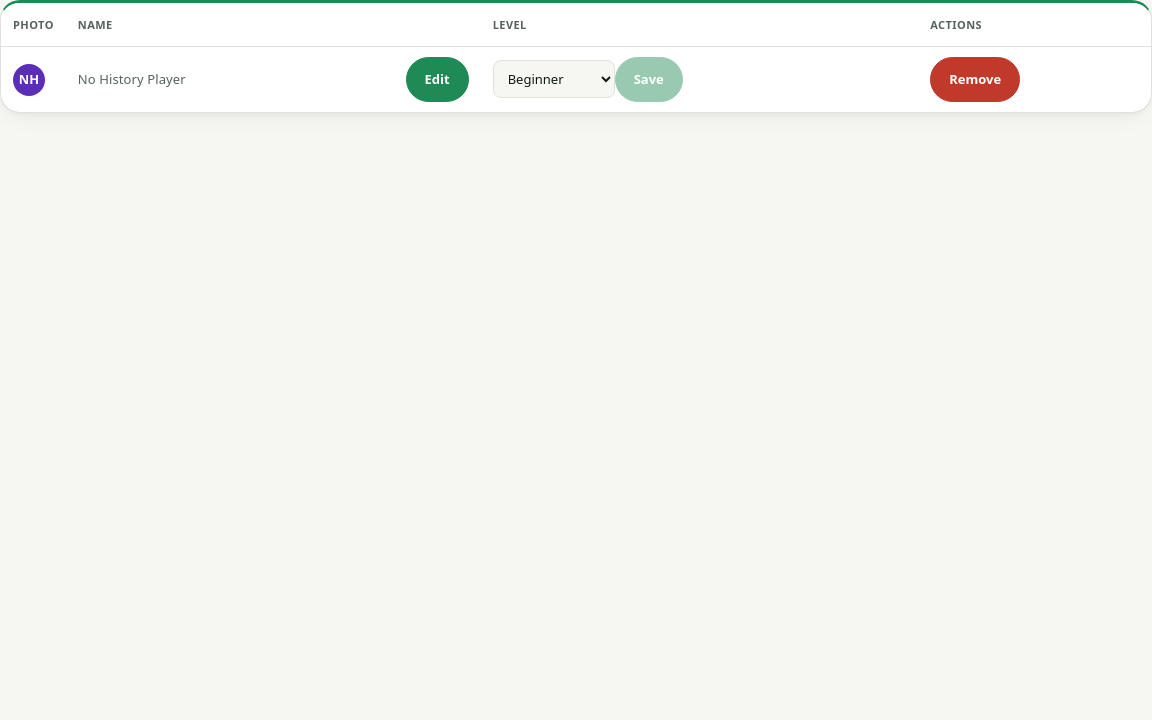
PlayerList remove member › shows the single-sport body ("permanently deletes their record") for a person in only this sport
The width and height of the screenshot is (1152, 720).
Step 1. Click the button "Remove" → (975, 80), box [930,57,1020,102]
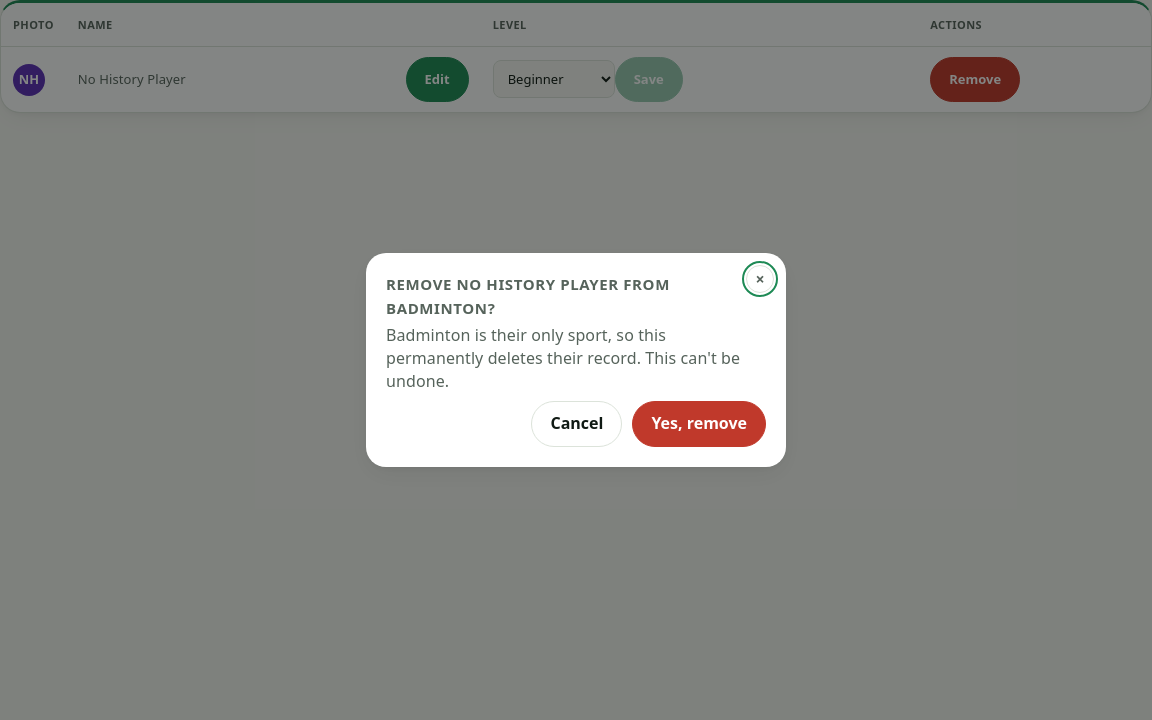
Expected: the text "permanently deletes their record" is shown, [386,324,740,392]
